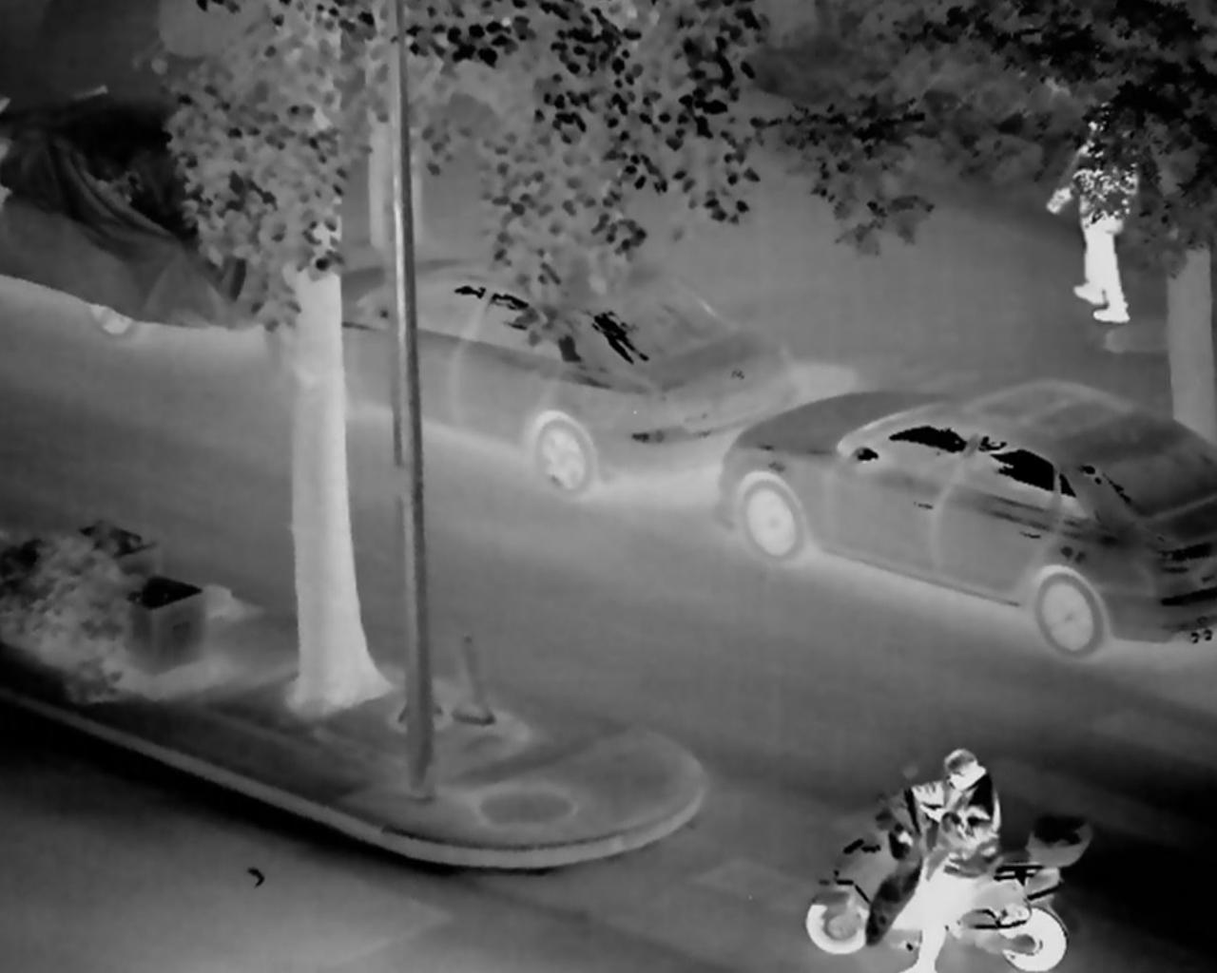person: (883, 740, 1028, 973), (1053, 83, 1146, 334)
